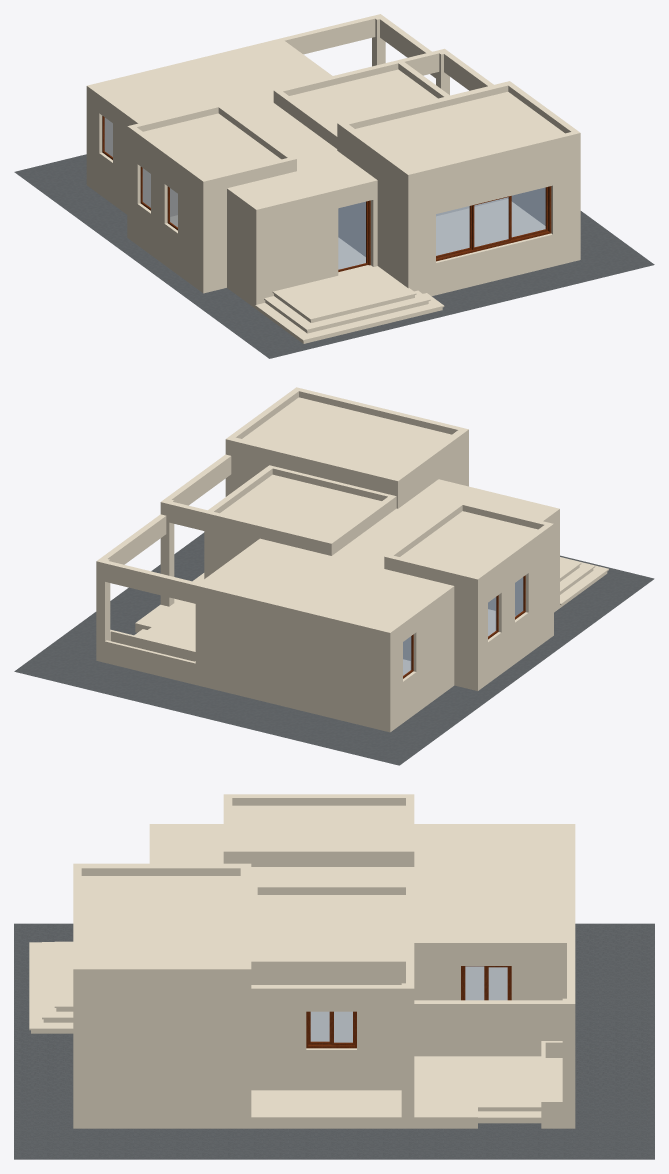
3 views of the same model, one above another, from view 1: azimuth 30°, elevation 25°; view 2: azimuth 150°, elevation 25°; view 3: azimuth 270°, elevation 25° (orthographic). The views are drawn at different scales.
Visible parts, largest first — view 1: 16946, Root Node, 18722, 19084, 17001, 19666, 19190, 19137, Component#1, 18850, 18849, 18658 (+2 smaller); view 2: 16946, Root Node, 18722, 19084, 19137, 17397, 19190, 18850, 17001, 18658, 18849, col#1 (+2 smaller); view 3: 16946, Root Node, 18722, 17397, 19084, 19137, 19190, 17001, 18658, 18849, Component#3 (×2), col (+1 smaller).
Part boxes in pixels (x1,y1,x2,y2): 16946: (86, 38, 580, 308); Root Node: (14, 154, 654, 358); 18722: (96, 42, 373, 205); 19084: (355, 92, 564, 170); 17001: (255, 266, 444, 343); 19666: (436, 186, 551, 261); 19190: (143, 113, 281, 177); 19137: (289, 69, 437, 130); Component#1: (338, 200, 370, 271); 18850: (281, 16, 375, 54); 18849: (380, 17, 435, 78); 18658: (444, 52, 493, 90); 16946: (195, 387, 559, 732); Root Node: (14, 532, 654, 765); 18722: (205, 481, 550, 628); 19084: (242, 397, 451, 476); 19137: (220, 474, 381, 539); 17397: (96, 573, 204, 684); 19190: (400, 511, 537, 575); 18850: (105, 561, 198, 603); 17001: (560, 557, 608, 607); 18658: (166, 454, 231, 505); 18849: (102, 514, 166, 564); col#1: (96, 557, 110, 653); 16946: (73, 794, 575, 1128); Root Node: (14, 923, 654, 1159); 18722: (158, 827, 566, 939); 17397: (251, 1041, 575, 1128); 19084: (81, 876, 240, 965); 19137: (257, 895, 405, 957); 19190: (232, 805, 405, 847); 17001: (29, 941, 73, 1033); 18658: (251, 985, 401, 1011); 18849: (414, 1000, 562, 1026); Component#3 (×2): (306, 966, 511, 1048); col: (401, 983, 414, 1117).
Bounding box in the file's own units: 13.18 × 4.15 × 15.13.
Materials: 339 (85 with a texture image).
